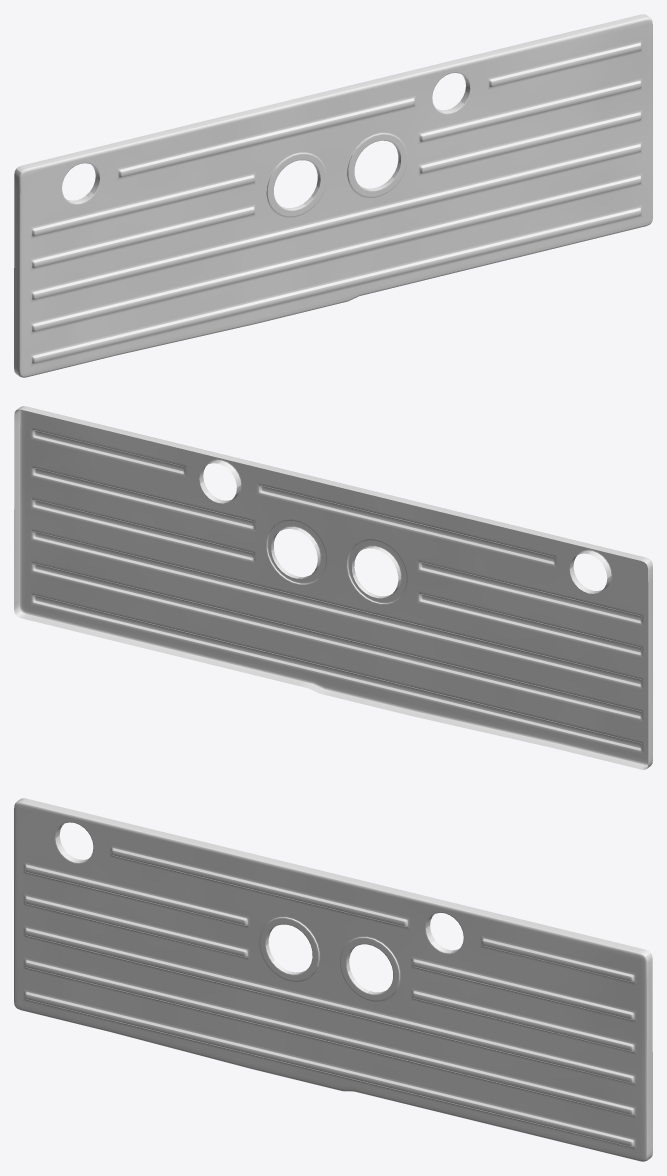
Rendered from SM_Kaffeemaschine_Gitter.obj.
3 views of the same model, one above another, from view 1: azimuth 30°, elevation 25°; view 2: azimuth 150°, elevation 25°; view 3: azimuth 330°, elevation 25° (orthographic).
Visible parts, largest first — view 1: SM_Kaffeemaschine_Gitter; view 2: SM_Kaffeemaschine_Gitter; view 3: SM_Kaffeemaschine_Gitter.
Boxes of the visible parts, x1,y1,x2,y2 form: SM_Kaffeemaschine_Gitter: (14,14,652,377); SM_Kaffeemaschine_Gitter: (14,406,652,769); SM_Kaffeemaschine_Gitter: (14,798,652,1161).
Size of the model in its own units: 0.2658 by 0.0845 by 0.00516.
Materials: 1 (1 with a texture image).
